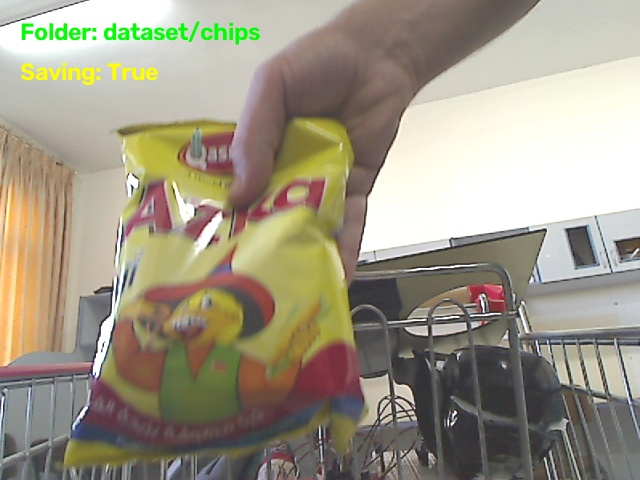chips: (65, 119, 363, 466)
